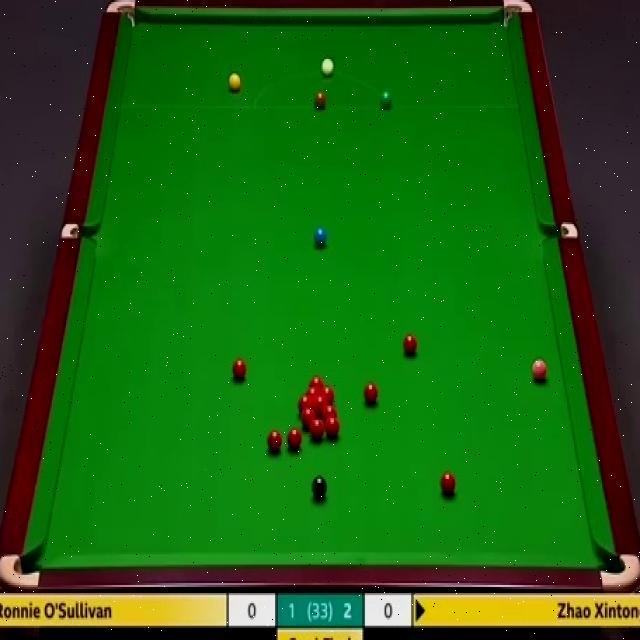black-ball: (311, 476, 328, 500)
blue-ball: (313, 226, 328, 248)
brown-ball: (314, 91, 327, 110)
green-ball: (380, 90, 392, 109)
pink-ball: (530, 357, 548, 386)
red-ball: (401, 334, 419, 360), (440, 471, 457, 497), (362, 382, 378, 406), (268, 427, 284, 450), (325, 415, 340, 439), (310, 417, 325, 440), (232, 358, 246, 382), (287, 429, 301, 452), (300, 408, 316, 426), (319, 386, 335, 402), (321, 404, 337, 418), (313, 396, 328, 410), (308, 375, 325, 387), (298, 394, 312, 408), (305, 386, 322, 395)
white-ball: (319, 56, 334, 78)
yellow-ball: (228, 72, 241, 95)
